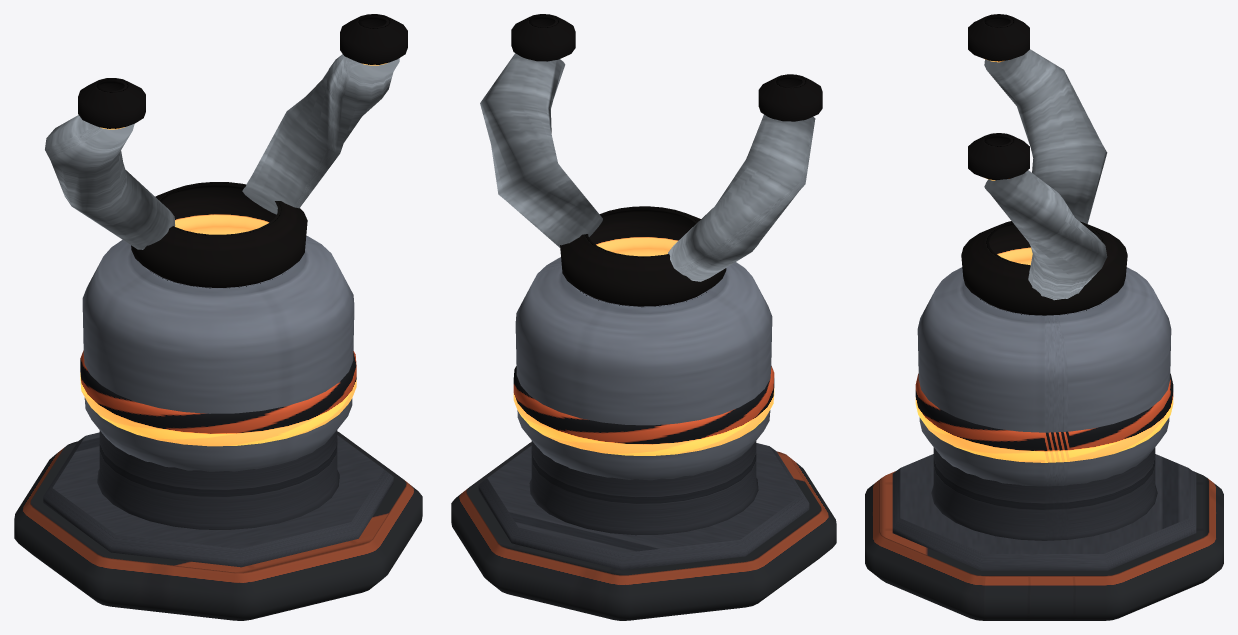
The model's file is focus.glb.
3 views of the same model, side by side, from view 1: azimuth 30°, elevation 25°; view 2: azimuth 150°, elevation 25°; view 3: azimuth 270°, elevation 25° (orthographic). The views are drawn at different scales.
Parts seen in each view (by area): view 1: FocusHull; view 2: FocusHull; view 3: FocusHull.
Part boxes in pixels (x1=…): FocusHull: x1=14, y1=14, x2=422, y2=620; FocusHull: x1=451, y1=14, x2=836, y2=620; FocusHull: x1=865, y1=14, x2=1223, y2=620.
Bounding box in the file's own units: 0.3683 × 0.524 × 0.3622.
1 material, 1 textured.
